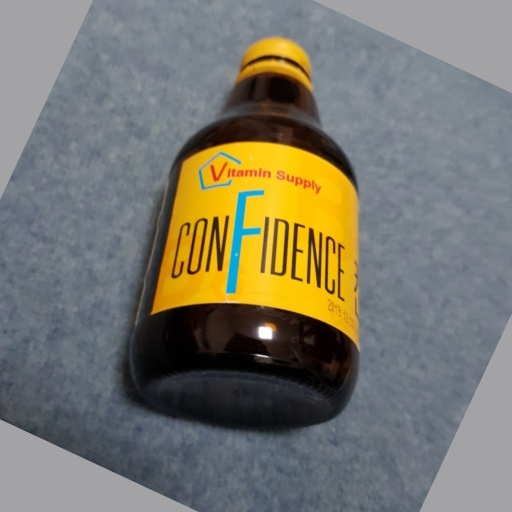Glass_3: (128, 32, 362, 434)
